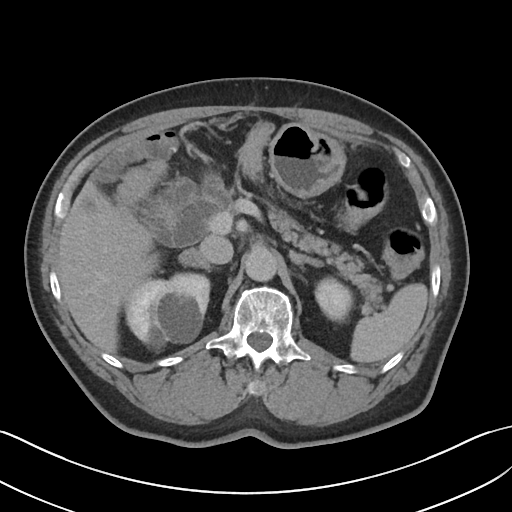Lesion: (155, 292, 204, 349)
